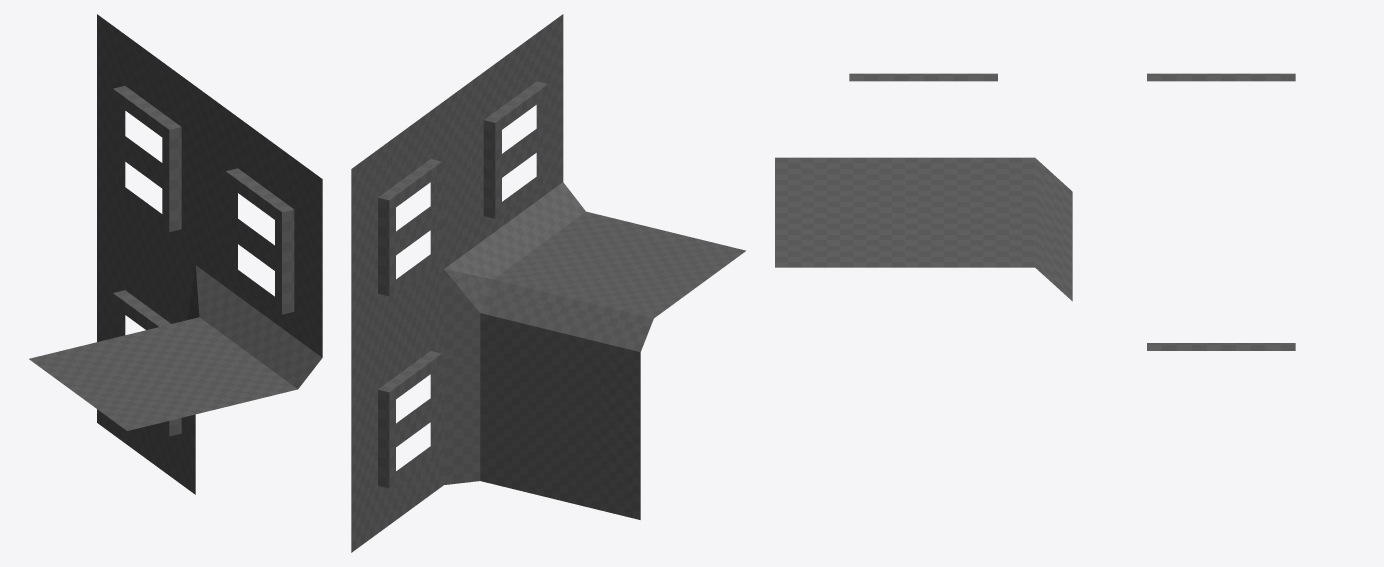
3 views of the same model, side by side, from view 1: azimuth 30°, elevation 25°; view 2: azimuth 150°, elevation 25°; view 3: azimuth 270°, elevation 25° (orthographic). The views are drawn at different scales.
Parts seen in each view (by area): view 1: CubeUpBackLeft2V3; view 2: CubeUpBackLeft2V3; view 3: CubeUpBackLeft2V3.
Boxes of the visible parts, box(x1,y1,x2,y2) form: CubeUpBackLeft2V3: box(29, 14, 322, 494); CubeUpBackLeft2V3: box(351, 14, 745, 552); CubeUpBackLeft2V3: box(775, 73, 1295, 350).
Size of the model in its own units: 2 by 4 by 4.
Materials: 1 (1 with a texture image).
